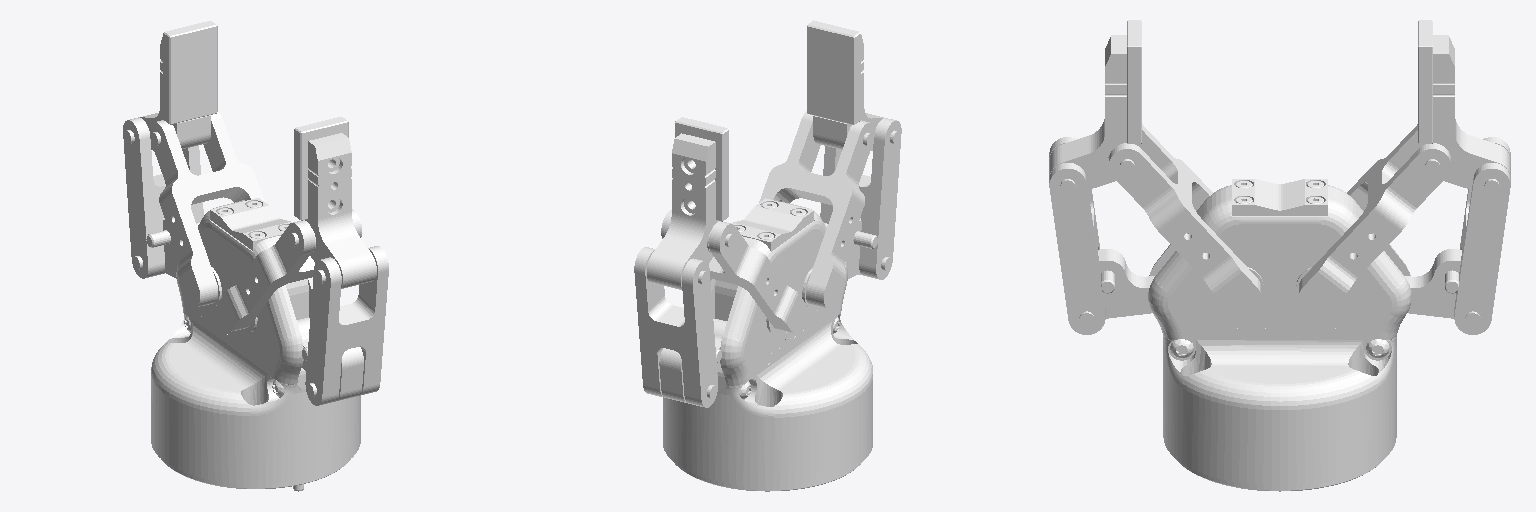
The robot description file, URDF, robot "example":
<?xml version="1.0" ?>
<!-- =================================================================================== -->
<!-- |    This document was autogenerated by xacro from simple_rq2f85_pybullet.urdf.xacro | -->
<!-- |    EDITING THIS FILE BY HAND IS NOT RECOMMENDED                                 | -->
<!-- =================================================================================== -->
<robot name="example" xmlns:xacro="http://ros.org/wiki/xacro">
  <material name="Blanc">
    <color rgba="1.0 1.0 1.0 1.0"/>
  </material>
  <link name="base_link">
    <origin xyz="0 0 0"/>
    <inertial>
      <mass value="0.001"/>
      <origin rpy="0 0 0" xyz="0 0 0"/>
      <inertia ixx="0" ixy="0.0" ixz="0.0" iyy="0.0" iyz="0.0" izz="0.0"/>
    </inertial>
  </link>
  <!-- base -->
  <joint name="base_link_robotiq_2f_85_base_joint" type="fixed">
    <origin rpy="0 0 0" xyz="0 0 0"/>
    <parent link="base_link"/>
    <child link="robotiq_2f_85_base"/>
  </joint>
  <link name="robotiq_2f_85_base">
    <inertial>
      <mass value="0.1"/>
      <origin xyz="0 0 0.055"/>
      <inertia ixx="0.000190833333333" ixy="0" ixz="0" iyy="0.00018" iyz="0" izz="0.000190833333333"/>
    </inertial>
    <visual>
      <geometry>
        <mesh filename="robotiq-2f-base.obj" scale="0.1 0.1 0.1"/>
      </geometry>
      <material name="Blanc"/>
    </visual>
    <!-- <collision>
      <geometry>
        <mesh filename="robotiq-2f-base.stl" scale="0.001 0.001 0.001"/>
      </geometry>
    </collision> -->
  </link>
  <!-- right finger -->
  <joint name="robotiq_2f_85_right_driver_joint" type="revolute">
    <origin rpy="0 0 0" xyz="0 0.0306011 0.054904"/>
    <parent link="robotiq_2f_85_base"/>
    <child link="robotiq_2f_85_right_driver"/>
    <axis xyz="1 0 0"/>
    <limit effort="60" lower="0.0" upper="0.834" velocity="1.91986177778"/>
  </joint>
  <link name="robotiq_2f_85_right_driver">
    <inertial>
      <mass value="0.1"/>
      <origin xyz="0 0 0.055"/>
      <inertia ixx="0.000190833333333" ixy="0" ixz="0" iyy="0.00018" iyz="0" izz="0.000190833333333"/>
    </inertial>
    <visual>
      <geometry>
        <mesh filename="robotiq-2f-driver.obj" scale="0.1 0.1 0.1"/>
      </geometry>
      <material name="Blanc"/>
    </visual>
    <!-- <collision>
      <geometry>
        <mesh filename="robotiq-2f-driver.stl" scale="0.001 0.001 0.001"/>
      </geometry>
    </collision> -->
  </link>
  <joint name="robotiq_2f_85_right_coupler_joint" type="fixed">
    <origin rpy="0 0 0" xyz="0 0.0315 -0.0041"/>
    <parent link="robotiq_2f_85_right_driver"/>
    <child link="robotiq_2f_85_right_coupler"/>
  </joint>
  <link name="robotiq_2f_85_right_coupler">
    <inertial>
      <mass value="0.1"/>
      <origin xyz="0 0 0.055"/>
      <inertia ixx="0.000190833333333" ixy="0" ixz="0" iyy="0.00018" iyz="0" izz="0.000190833333333"/>
    </inertial>
    <visual>
      <geometry>
        <mesh filename="robotiq-2f-coupler.obj" scale="0.1 0.1 0.1"/>
      </geometry>
      <material name="Blanc"/>
    </visual>
    <!-- <collision>
      <geometry>
        <mesh filename="robotiq-2f-coupler.stl" scale="0.001 0.001 0.001"/>
      </geometry>
    </collision> -->
  </link>
  <joint name="robotiq_2f_85_right_follower_joint" type="revolute">
    <origin rpy="0 0 0" xyz="0 0.0061 0.0471"/>
    <parent link="robotiq_2f_85_right_coupler"/>
    <child link="robotiq_2f_85_right_follower"/>
    <axis xyz="1 0 0"/>
    <limit effort="176" lower="-2.96705911111" upper="2.96705911111" velocity="1.91986177778"/>
    <mimic joint="robotiq_2f_85_right_driver_joint" multiplier="-1"/>
  </joint>
  <link name="robotiq_2f_85_right_follower">
    <visual>
      <geometry>
        <mesh filename="robotiq-2f-follower.obj" scale="0.1 0.1 0.1"/>
      </geometry>
      <material name="Blanc"/>
    </visual>
    <!-- <collision>
      <geometry>
        <mesh filename="robotiq-2f-follower.stl" scale="0.001 0.001 0.001"/>
      </geometry>
    </collision> -->
    <inertial>
      <mass value="0.1"/>
      <origin xyz="0 0 0.055"/>
      <inertia ixx="0.000190833333333" ixy="0" ixz="0" iyy="0.00018" iyz="0" izz="0.000190833333333"/>
    </inertial>
  </link>
  <joint name="robotiq_2f_85_right_pad_joint" type="fixed">
			<parent link="robotiq_2f_85_right_follower"/>
			<child link="robotiq_2f_85_right_pad"/>
	</joint>
	<link name="robotiq_2f_85_right_pad">
		<inertial>
			<mass value="0.1"/>
			<origin xyz="0 0 0.055"  />
      <inertia ixx="0.00019" iyy="0.00018" izz="0.00019" ixy="0" iyz="0" ixz="0"/>
		</inertial>
		<visual>
			<geometry>
				<mesh filename="robotiq-2f-pad.stl" scale="0.0001 0.0001 0.0001"/>
			</geometry>
      <material name="Blanc"/>
		</visual>
		<collision>
			<geometry>
				<mesh filename="robotiq-2f-pad.stl" scale="0.001 0.001 0.001"/>
			</geometry>
		</collision>
	</link>
  <joint name="robotiq_2f_85_right_spring_link_joint" type="revolute">
    <origin rpy="0 0 0" xyz="0 0.012 0.0614"/>
    <parent link="robotiq_2f_85_base"/>
    <child link="robotiq_2f_85_right_spring_link"/>
    <axis xyz="1 0 0"/>
    <limit effort="176" lower="-2.96705911111" upper="2.96705911111" velocity="1.91986177778"/>
    <mimic joint="robotiq_2f_85_right_driver_joint" multiplier="1"/>
  </joint>
  <link name="robotiq_2f_85_right_spring_link">
    <inertial>
      <mass value="0.1"/>
      <origin xyz="0 0 0.055"/>
      <inertia ixx="0.000190833333333" ixy="0" ixz="0" iyy="0.00018" iyz="0" izz="0.000190833333333"/>
    </inertial>
    <visual>
      <geometry>
        <mesh filename="robotiq-2f-spring_link.obj" scale="0.1 0.1 0.1"/>
      </geometry>
      <material name="Blanc"/>
    </visual>
    <!-- <collision>
      <geometry>
        <mesh filename="robotiq-2f-spring_link.stl" scale="0.001 0.001 0.001"/>
      </geometry>
    </collision> -->
  </link>
  <!-- left finger -->
  <joint name="robotiq_2f_85_left_driver_joint" type="revolute">
    <origin rpy="0 0 3.141592653589793" xyz="0 -0.0306011 0.054904"/>
    <parent link="robotiq_2f_85_base"/>
    <child link="robotiq_2f_85_left_driver"/>
    <axis xyz="1 0 0"/>
    <limit effort="176" lower="0.0" upper="0.834" velocity="1.91986177778"/>
    <mimic joint="robotiq_2f_85_right_driver_joint" multiplier="1"/>
  </joint>
  <link name="robotiq_2f_85_left_driver">
    <inertial>
      <mass value="0.1"/>
      <origin xyz="0 0 0.055"/>
      <inertia ixx="0.000190833333333" ixy="0" ixz="0" iyy="0.00018" iyz="0" izz="0.000190833333333"/>
    </inertial>
    <visual>
      <geometry>
        <mesh filename="robotiq-2f-driver.obj" scale="0.1 0.1 0.1"/>
      </geometry>
      <material name="Blanc"/>
    </visual>
    <!-- <collision>
      <geometry>
        <mesh filename="robotiq-2f-driver.stl" scale="0.001 0.001 0.001"/>
      </geometry>
    </collision> -->
  </link>
  <joint name="robotiq_2f_85_left_coupler_joint" type="fixed">
    <origin rpy="0 0 0" xyz="0 0.0315 -0.0041"/>
    <parent link="robotiq_2f_85_left_driver"/>
    <child link="robotiq_2f_85_left_coupler"/>
  </joint>
  <link name="robotiq_2f_85_left_coupler">
    <inertial>
      <mass value="0.1"/>
      <origin xyz="0 0 0.055"/>
      <inertia ixx="0.000190833333333" ixy="0" ixz="0" iyy="0.00018" iyz="0" izz="0.000190833333333"/>
    </inertial>
    <visual>
      <geometry>
        <mesh filename="robotiq-2f-coupler.obj" scale="0.1 0.1 0.1"/>
      </geometry>
      <material name="Blanc"/>
    </visual>
    <!-- <collision>
      <geometry>
        <mesh filename="robotiq-2f-coupler.stl" scale="0.001 0.001 0.001"/>
      </geometry>
    </collision> -->
  </link>
  <joint name="robotiq_2f_85_left_follower_joint" type="revolute">
    <origin rpy="0 0 0" xyz="0 0.0061 0.0471"/>
    <parent link="robotiq_2f_85_left_coupler"/>
    <child link="robotiq_2f_85_left_follower"/>
    <axis xyz="1 0 0"/>
    <limit effort="176" lower="-2.96705911111" upper="2.96705911111" velocity="1.91986177778"/>
    <mimic joint="robotiq_2f_85_right_driver_joint" multiplier="-1"/>
  </joint>
  <link name="robotiq_2f_85_left_follower">
    <visual>
      <geometry>
        <mesh filename="robotiq-2f-follower.obj" scale="0.1 0.1 0.1"/>
      </geometry>
      <material name="Blanc"/>
    </visual>
    <!-- <collision>
      <geometry>
        <mesh filename="robotiq-2f-follower.stl" scale="0.001 0.001 0.001"/>
      </geometry>
    </collision> -->
    <inertial>
      <mass value="0.1"/>
      <origin xyz="0 0 0.055"/>
      <inertia ixx="0.000190833333333" ixy="0" ixz="0" iyy="0.00018" iyz="0" izz="0.000190833333333"/>
    </inertial>
  </link>
  <joint name="robotiq_2f_85_left_pad_joint" type="fixed">
			<parent link="robotiq_2f_85_left_follower"/>
			<child link="robotiq_2f_85_left_pad"/>
		</joint>
		<link name="robotiq_2f_85_left_pad">
			<inertial>
				<mass value="0.1"/>
				<origin xyz="0 0 0.055"  />
				<inertia ixx="0.00019" iyy="0.00018" izz="0.00019" ixy="0" iyz="0" ixz="0"/>
			</inertial>
      <visual>
        <geometry>
          <mesh filename="robotiq-2f-pad.stl" scale="0.0001 0.0001 0.0001"/>
        </geometry>
        <material name="Blanc"/>
      </visual>
			<collision>
				<geometry>
					<mesh filename="robotiq-2f-pad.stl" scale="0.001 0.001 0.001"/>
				</geometry>
			</collision>
		</link>
  <joint name="robotiq_2f_85_left_spring_link_joint" type="revolute">
    <origin rpy="0 0 3.141592653589793" xyz="0 -0.012 0.0614"/>
    <parent link="robotiq_2f_85_base"/>
    <child link="robotiq_2f_85_left_spring_link"/>
    <axis xyz="1 0 0"/>
    <limit effort="176" lower="-2.96705911111" upper="2.96705911111" velocity="1.91986177778"/>
    <mimic joint="robotiq_2f_85_right_driver_joint" multiplier="1"/>
  </joint>
  <link name="robotiq_2f_85_left_spring_link">
    <inertial>
      <mass value="0.1"/>
      <origin xyz="0 0 0.055"/>
      <inertia ixx="0.000190833333333" ixy="0" ixz="0" iyy="0.00018" iyz="0" izz="0.000190833333333"/>
    </inertial>
    <visual>
      <geometry>
        <mesh filename="robotiq-2f-spring_link.obj" scale="0.1 0.1 0.1"/>
      </geometry>
      <material name="Blanc"/>
    </visual>
    <!-- <collision>
      <geometry>
        <mesh filename="robotiq-2f-spring_link.stl" scale="0.001 0.001 0.001"/>
      </geometry>
    </collision> -->
  </link>
  <transmission name="robotiq_2f_85_right_driver_trans">
    <type>transmission_interface/SimpleTransmission</type>
    <joint name="robotiq_2f_85_right_driver_joint">
      <hardwareInterface>hardware_interface/PositionJointInterface</hardwareInterface>
    </joint>
    <actuator name="robotiq_2f_85_right_driver_motor">
      <mechanicalReduction>1</mechanicalReduction>
    </actuator>
  </transmission>
</robot>

--- What the picture shows (computed from the rendered views, not written in the file) ---
3 views of the same robot in one strip: view 1: azimuth 30°, elevation 25°; view 2: azimuth 150°, elevation 25°; view 3: azimuth 270°, elevation 25° (orthographic).
Model example with 12 links and 11 joints (6 revolute, 5 fixed), rooted at base_link, posed every joint at zero.
Links seen in each view (by area): view 1: robotiq_2f_85_base, robotiq_2f_85_right_spring_link, robotiq_2f_85_left_follower, robotiq_2f_85_left_coupler, robotiq_2f_85_right_follower, robotiq_2f_85_right_coupler, robotiq_2f_85_left_spring_link, robotiq_2f_85_left_driver, robotiq_2f_85_right_driver; view 2: robotiq_2f_85_base, robotiq_2f_85_left_spring_link, robotiq_2f_85_right_follower, robotiq_2f_85_right_coupler, robotiq_2f_85_left_follower, robotiq_2f_85_left_coupler, robotiq_2f_85_right_spring_link, robotiq_2f_85_right_driver, robotiq_2f_85_left_driver; view 3: robotiq_2f_85_base, robotiq_2f_85_left_spring_link, robotiq_2f_85_right_spring_link, robotiq_2f_85_right_coupler, robotiq_2f_85_left_coupler, robotiq_2f_85_right_follower, robotiq_2f_85_left_follower, robotiq_2f_85_left_driver, robotiq_2f_85_right_driver.
Link boxes in pixels (x1,y1,x2,y2): robotiq_2f_85_base: [151, 198, 360, 491]; robotiq_2f_85_right_spring_link: [150, 111, 264, 307]; robotiq_2f_85_left_follower: [294, 117, 376, 288]; robotiq_2f_85_left_coupler: [305, 246, 388, 405]; robotiq_2f_85_right_follower: [140, 21, 217, 150]; robotiq_2f_85_right_coupler: [123, 117, 203, 278]; robotiq_2f_85_left_spring_link: [217, 209, 361, 331]; robotiq_2f_85_left_driver: [297, 317, 363, 400]; robotiq_2f_85_right_driver: [146, 218, 199, 278]; robotiq_2f_85_base: [663, 198, 872, 491]; robotiq_2f_85_left_spring_link: [759, 111, 874, 308]; robotiq_2f_85_right_follower: [647, 117, 728, 289]; robotiq_2f_85_right_coupler: [634, 247, 717, 407]; robotiq_2f_85_left_follower: [807, 20, 883, 150]; robotiq_2f_85_left_coupler: [820, 118, 901, 279]; robotiq_2f_85_right_spring_link: [661, 210, 806, 333]; robotiq_2f_85_right_driver: [659, 319, 726, 402]; robotiq_2f_85_left_driver: [824, 218, 877, 278]; robotiq_2f_85_base: [1148, 179, 1411, 491]; robotiq_2f_85_left_spring_link: [1109, 124, 1260, 314]; robotiq_2f_85_right_spring_link: [1299, 124, 1450, 314]; robotiq_2f_85_right_coupler: [1454, 137, 1510, 334]; robotiq_2f_85_left_coupler: [1049, 137, 1105, 334]; robotiq_2f_85_right_follower: [1418, 20, 1510, 189]; robotiq_2f_85_left_follower: [1049, 20, 1141, 189]; robotiq_2f_85_left_driver: [1098, 249, 1154, 318]; robotiq_2f_85_right_driver: [1405, 249, 1461, 318].
Bounding box of the posed robot: 0.075 × 0.1484 × 0.1504 m (x, y, z).
Meshes: 6 distinct files referenced, 9 mesh visuals loaded (5 OBJ); not drawn: 2 (reference not matched to a file when rendering).
